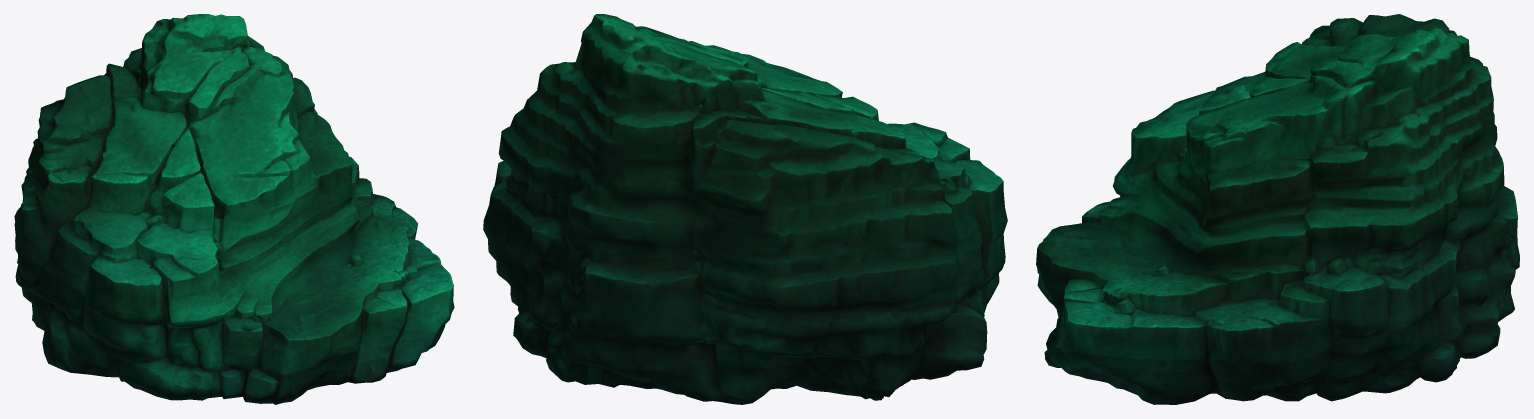
The model's file is ai_boulder_hf_trellis2.glb.
3 renders of one model, left to right at view 1: azimuth 30°, elevation 25°; view 2: azimuth 150°, elevation 25°; view 3: azimuth 270°, elevation 25°, orthographic. The views are drawn at different scales.
Visible parts, largest first — view 1: ai_boulder_hf_trellis2_mesh; view 2: ai_boulder_hf_trellis2_mesh; view 3: ai_boulder_hf_trellis2_mesh.
Part boxes in pixels (bbox=[...]): ai_boulder_hf_trellis2_mesh: bbox=[14, 14, 454, 404]; ai_boulder_hf_trellis2_mesh: bbox=[483, 14, 1007, 404]; ai_boulder_hf_trellis2_mesh: bbox=[1036, 14, 1519, 404].
Bounding box in the file's own units: 2.1 × 1.44 × 2.09.
Materials: 1 (1 with a texture image).
